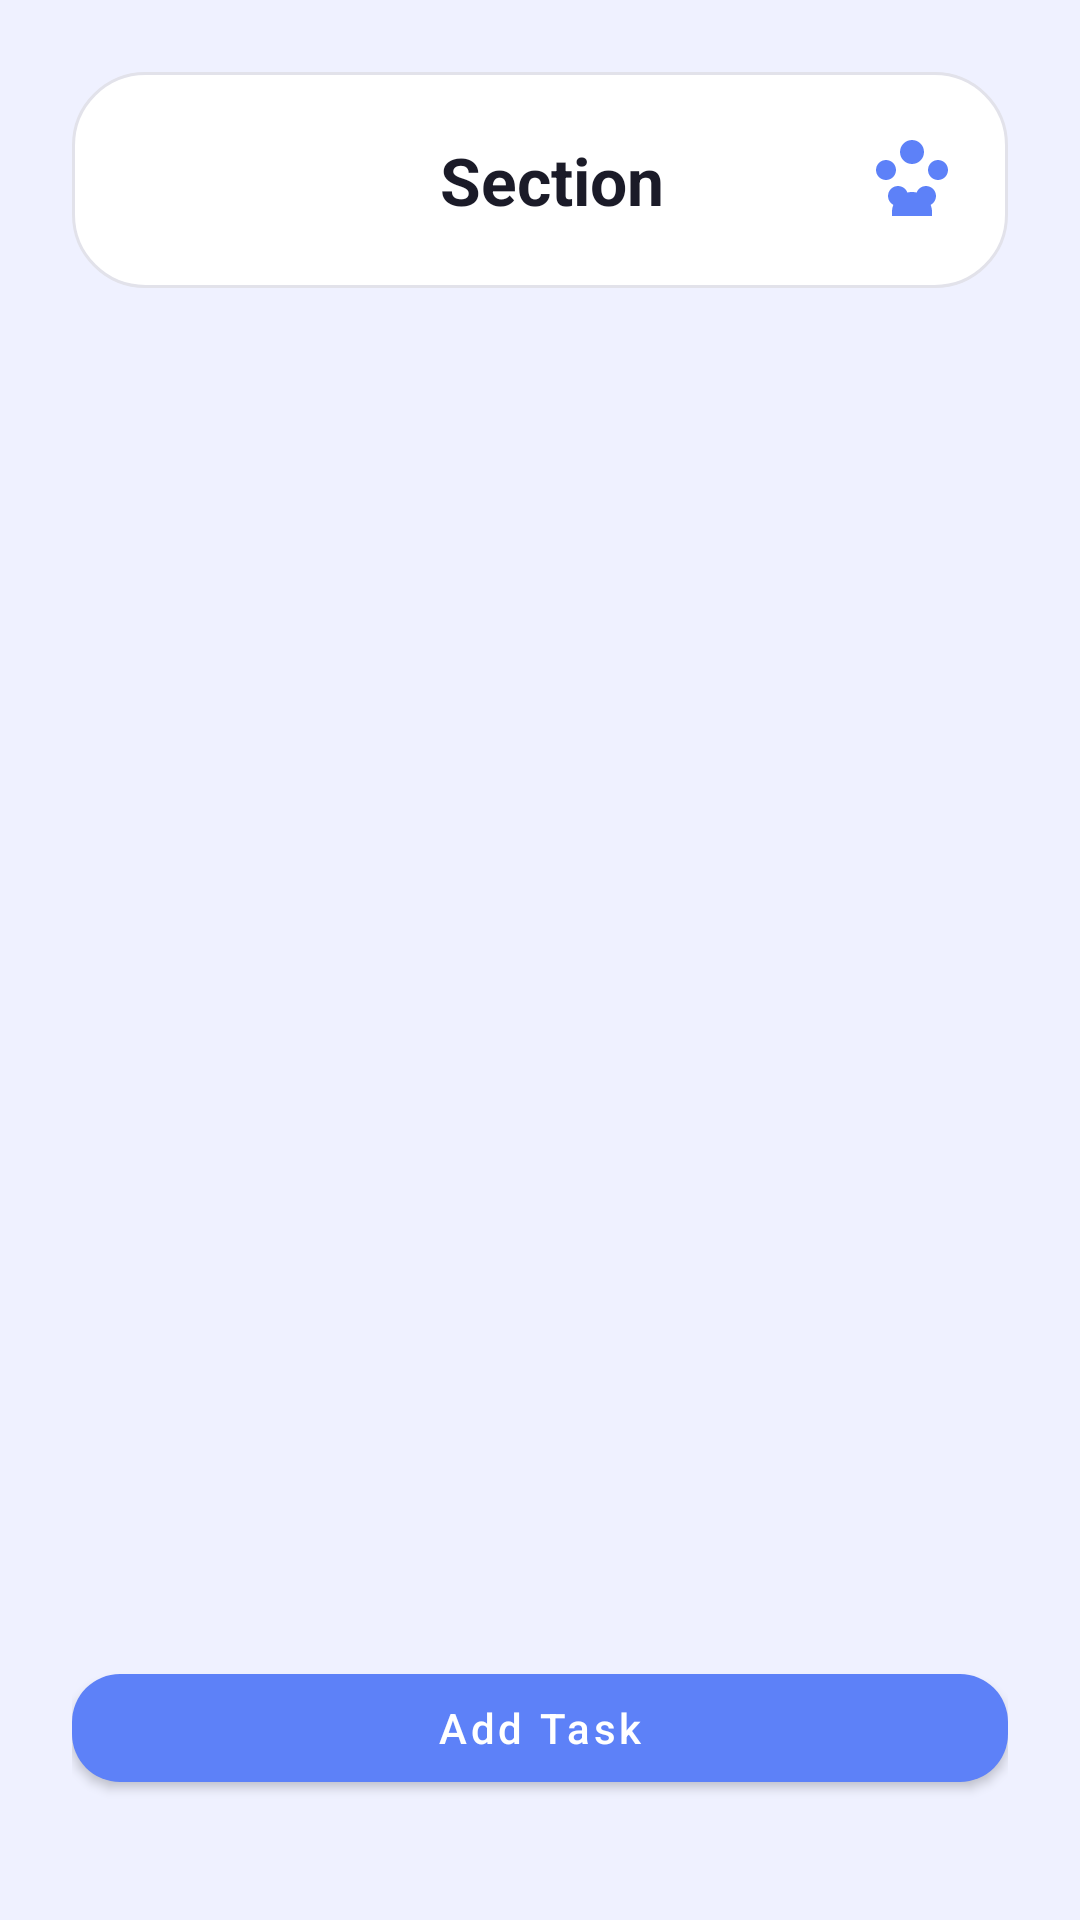

Screen size 1080w x 1920h. Icon name, then its center in pixels as (x=x, y=y):
pet: (x=912, y=178)
